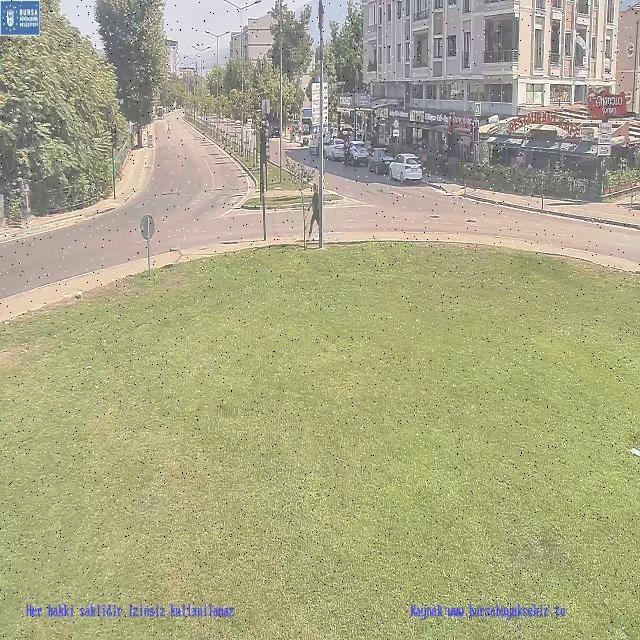Car: (389, 153, 423, 184), (365, 148, 394, 174), (323, 140, 347, 161)
